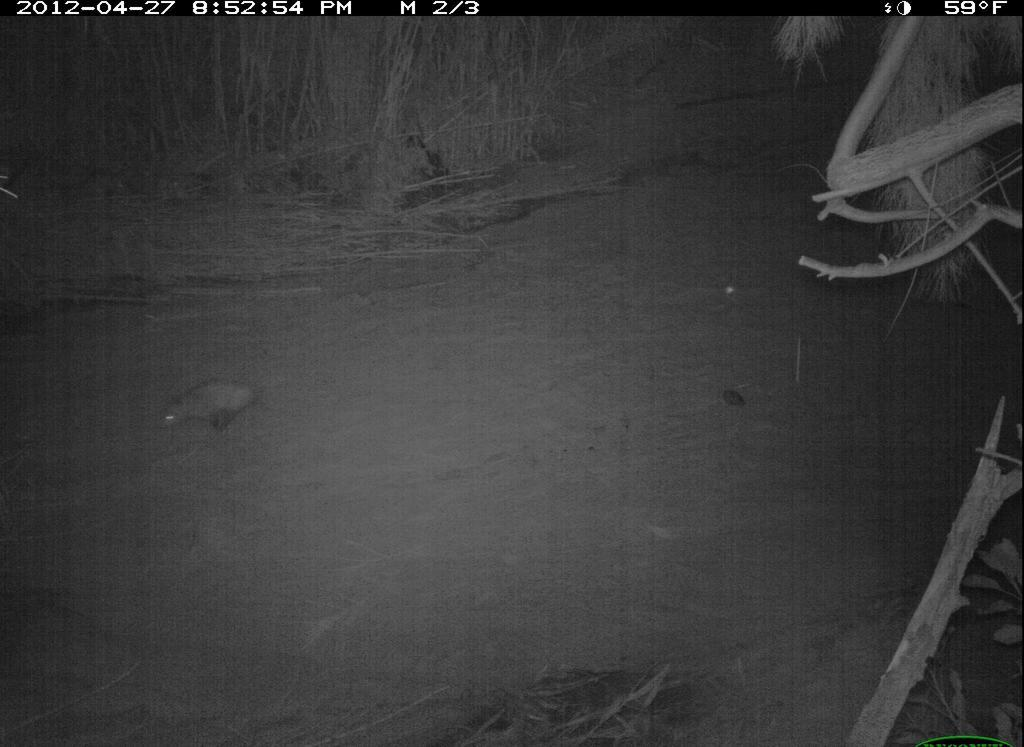opossum: (149, 372, 273, 443)
